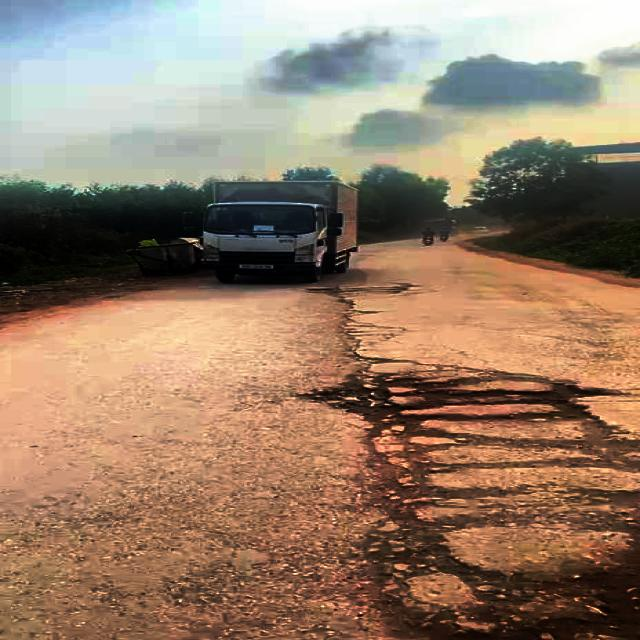pothole: (291, 363, 640, 502), (331, 499, 640, 640)
